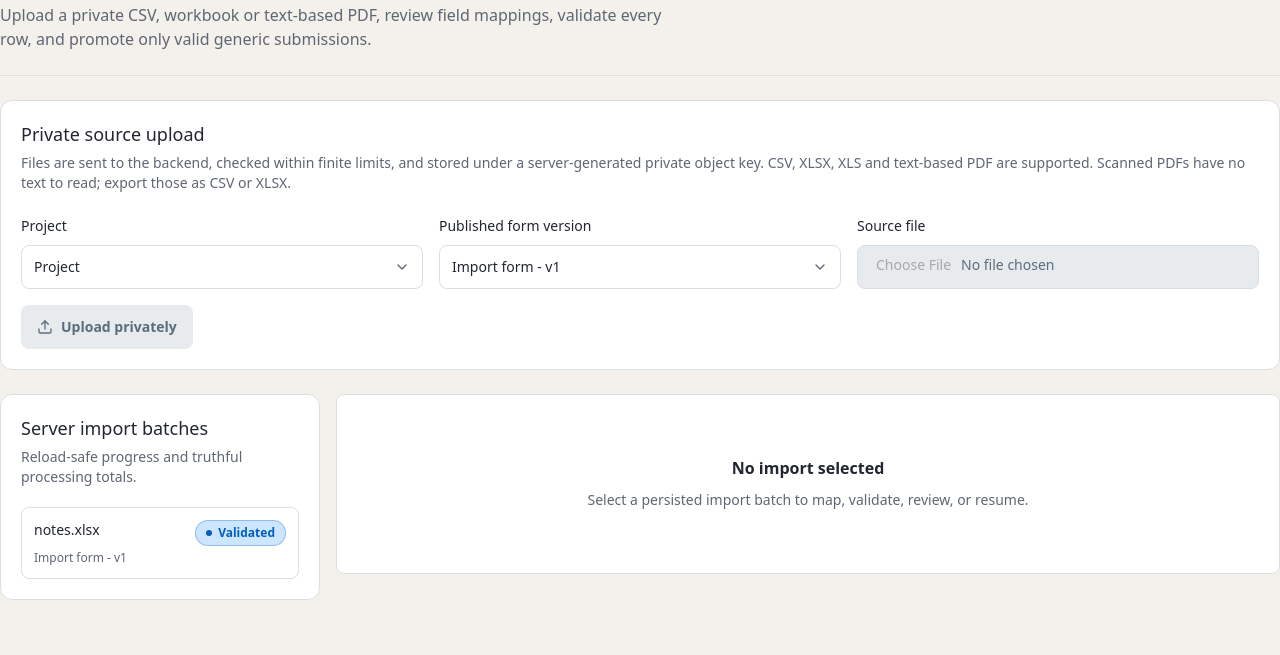
import workspace automatic processing › keeps processing until the batch is done and announces progress
The width and height of the screenshot is (1280, 655).
Click the text "notes.xlsx" at (67, 530), box [34,520,100,540]
(page scrolled)
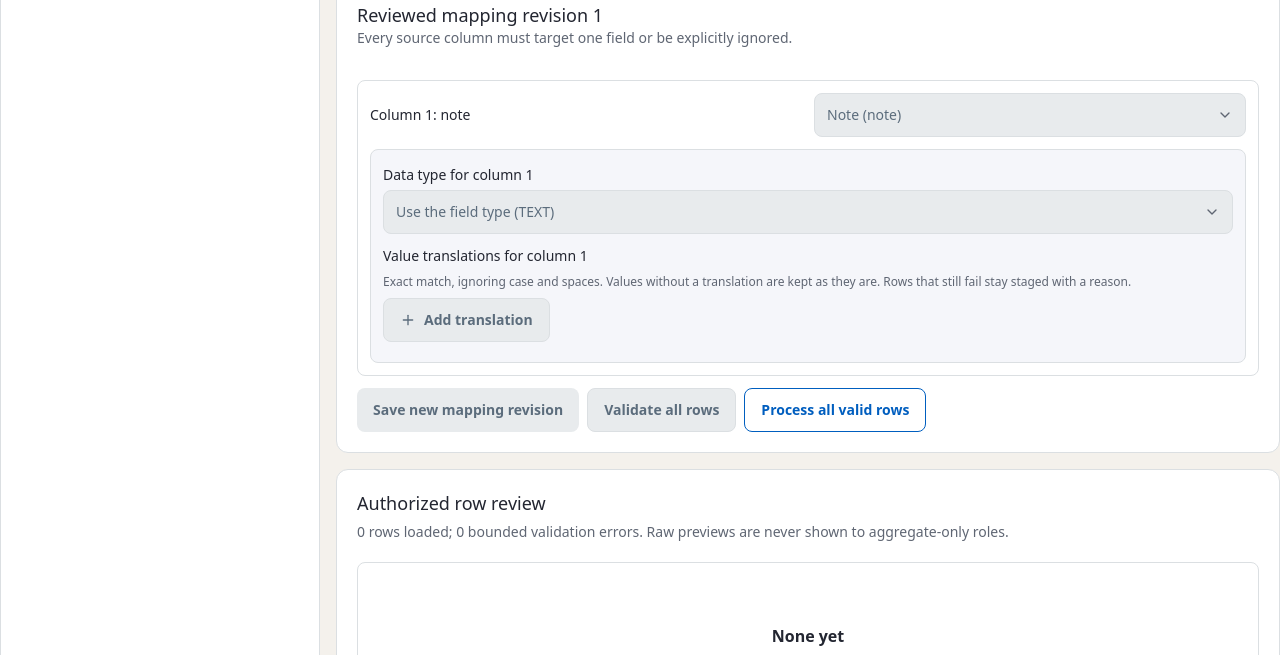
Click the button "Process all valid rows" at (835, 410), box [744,388,926,432]
(page scrolled)
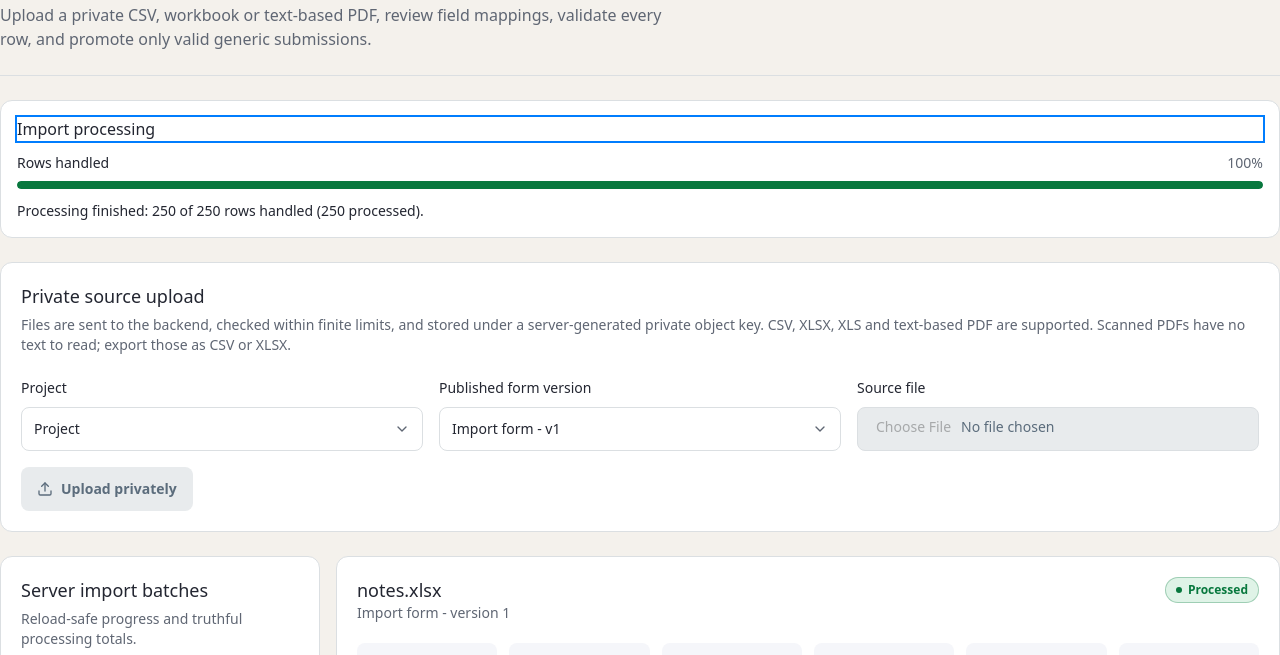
Expected: the text "Processing finished: 250 of 250 rows handled" is shown, [17,201,424,220]
